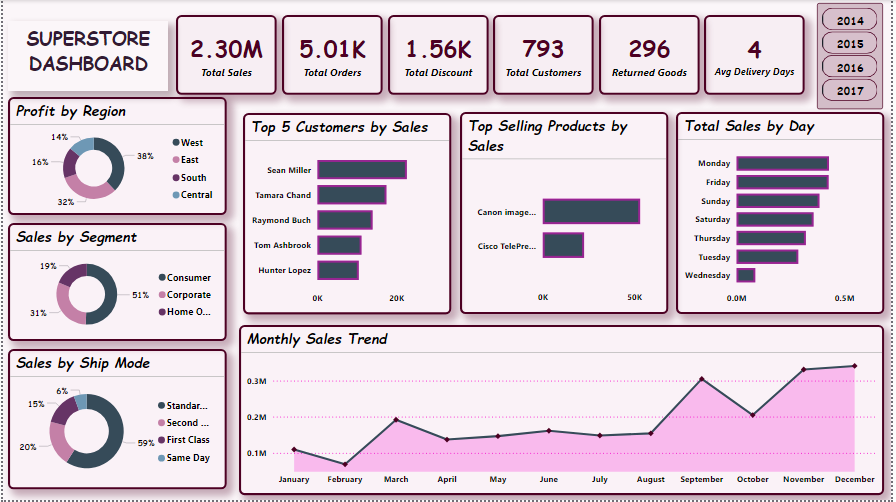

This screenshot's page, from the dashboard's own definition file:
{"tool":"powerbi","page":{"name":"sales_dashboard","canvas":[1520,950],"ordinal":0},"visuals":[{"type":"card","fields":{"Values":["superstore_final_dataset (1).Sales"]},"box":[80,128,256,128],"z":0},{"type":"advancedSlicerVisual","fields":{"Values":["superstore_final_dataset (1).Order_Date.Variation.Date Hierarchy.Year"]},"box":[1056,0,464,112],"z":1000},{"type":"lineChart","title":"Total Sales by Month","fields":{"Category":["superstore_final_dataset (1).Order_Date.Variation.Date Hierarchy.Month"],"Y":["superstore_final_dataset (1).Sales"]},"box":[416,608,688,320],"z":2000},{"type":"donutChart","title":"Total Sales by Product Category","fields":{"Category":["superstore_final_dataset (1).Category"],"Y":["superstore_final_dataset (1).Sales"]},"box":[416,272,340,320],"z":3000},{"type":"columnChart","title":"Total Sales by Weekday","fields":{"Category":["superstore_final_dataset (1).weekday2"],"Y":["superstore_final_dataset (1).weekday2"]},"box":[16,608,384,320],"z":4000},{"type":"barChart","title":"Top 5 Customer by Sales","fields":{"Category":["superstore_final_dataset (1).Customer_Name"],"Y":["superstore_final_dataset (1).Sales"]},"box":[1120,272,384,320],"z":5000},{"type":"card","fields":{"Values":["superstore_final_dataset (1).Average Delivery Date"]},"box":[1200,128,250,125],"z":6000},{"type":"textbox","box":[0,0,1056,112],"z":7000},{"type":"pieChart","title":"Total Sales by Ship_Mode","fields":{"Category":["superstore_final_dataset (1).Ship_Mode"],"Y":["superstore_final_dataset (1).Sales"]},"box":[768,272,336,320],"z":8000},{"type":"barChart","title":"Top 5 Selling Products by Product Count","fields":{"Category":["superstore_final_dataset (1).Product_Name"],"Y":["superstore_final_dataset (1).Product_Name"]},"box":[16,272,384,320],"z":9000},{"type":"actionButton","box":[0,0,100,40],"z":10000},{"type":"columnChart","title":"Top Selling Products by Sales","fields":{"Category":["superstore_final_dataset (1).Product_Name"],"Y":["superstore_final_dataset (1).Sales"]},"box":[1120,608,384,320],"z":11000},{"type":"card","fields":{"Values":["superstore_final_dataset (1).No of Customers"]},"box":[821.3,128,256,128],"z":12000},{"type":"card","fields":{"Values":["superstore_final_dataset (1).No of Shippment"]},"box":[458.7,128,240,128],"z":13000}]}

Visuals, with their boxes on the page's 1520x950 design canvas (x1, y1, x2, y2). These are canvas units, not pixel positions in the 896x502 screenshot, which may show the page scaled, cropped or inside an application window:
card - superstore_final_dataset (1).Sales: left=80, top=128, right=336, bottom=256
advancedSlicerVisual - superstore_final_dataset (1).Order_Date.Variation.Date Hierarchy.Year: left=1056, top=0, right=1520, bottom=112
"Total Sales by Month" lineChart: left=416, top=608, right=1104, bottom=928
"Total Sales by Product Category" donutChart: left=416, top=272, right=756, bottom=592
"Total Sales by Weekday" columnChart: left=16, top=608, right=400, bottom=928
"Top 5 Customer by Sales" barChart: left=1120, top=272, right=1504, bottom=592
card - superstore_final_dataset (1).Average Delivery Date: left=1200, top=128, right=1450, bottom=253
textbox: left=0, top=0, right=1056, bottom=112
"Total Sales by Ship_Mode" pieChart: left=768, top=272, right=1104, bottom=592
"Top 5 Selling Products by Product Count" barChart: left=16, top=272, right=400, bottom=592
actionButton: left=0, top=0, right=100, bottom=40
"Top Selling Products by Sales" columnChart: left=1120, top=608, right=1504, bottom=928
card - superstore_final_dataset (1).No of Customers: left=821, top=128, right=1077, bottom=256
card - superstore_final_dataset (1).No of Shippment: left=459, top=128, right=699, bottom=256
